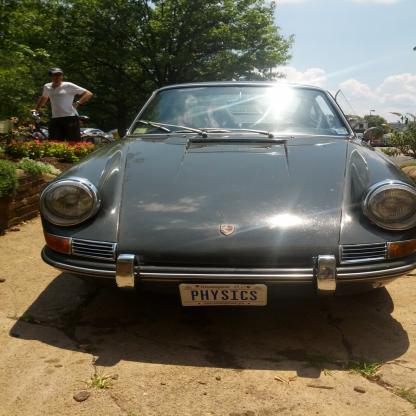Car: (38, 80, 415, 306)
